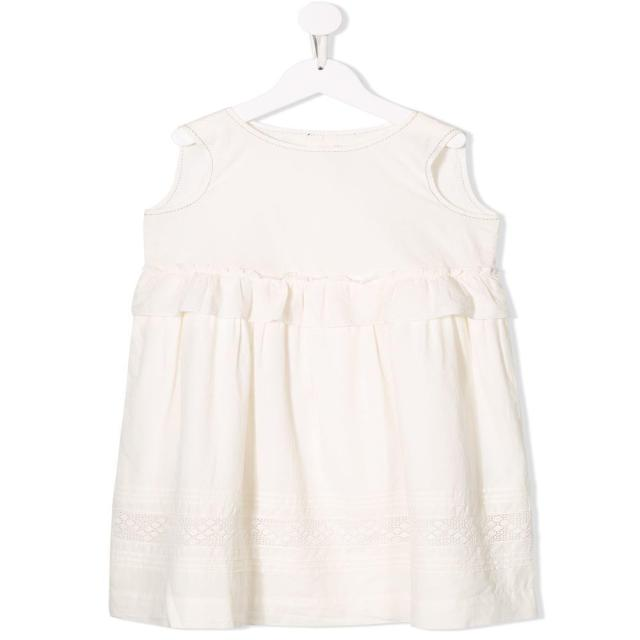Dress: (111, 117, 548, 633)
